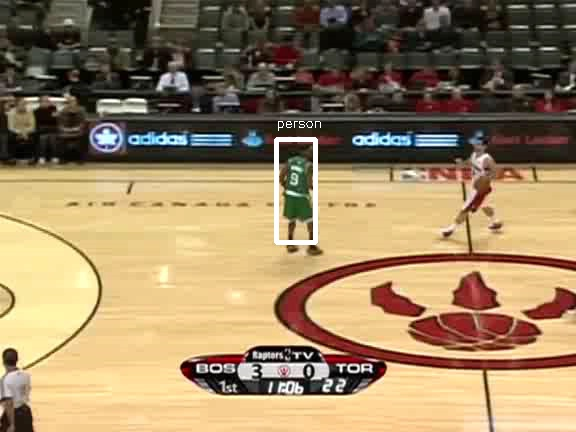person: (279, 149, 313, 230), (278, 149, 312, 230), (280, 149, 314, 230), (279, 148, 313, 229), (279, 150, 313, 231)
target_negative: (59, 360, 452, 393), (494, 22, 501, 318), (490, 387, 570, 402), (390, 278, 438, 302), (534, 412, 563, 420), (260, 354, 262, 420)
